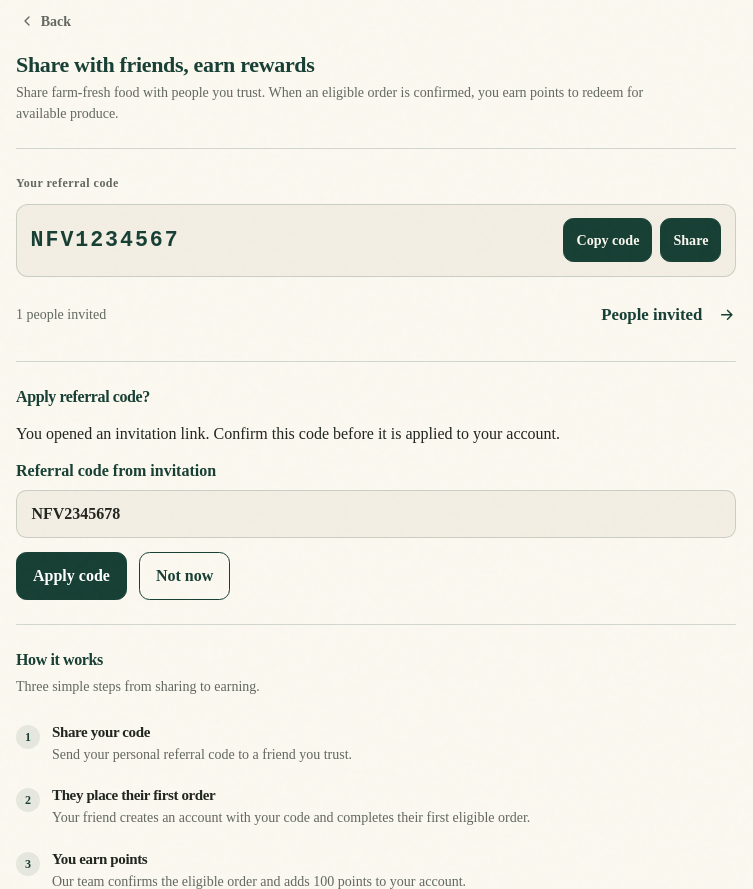
Test case: public account pages › keeps a failed referral confirmation available for retry
Click the button "Apply code" at {"x": 71, "y": 576}, box x1=16 y1=552 x2=127 y2=600
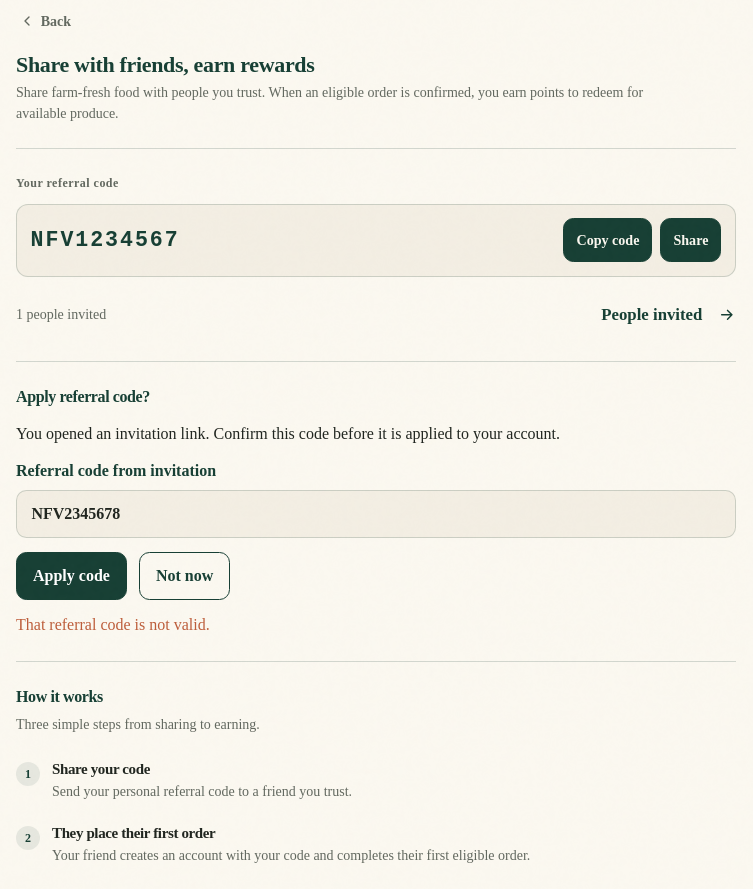
Expected: the field labelled "Referral code from invitation" holds "NFV2345678", x1=16 y1=490 x2=736 y2=538
Expected: the text "That referral code is not valid." is shown, x1=16 y1=616 x2=210 y2=633
